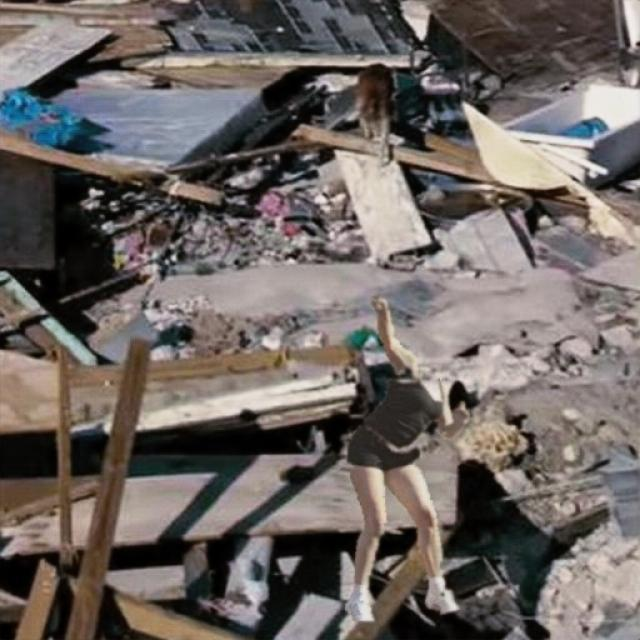Person in Rubble: (345, 296, 471, 620)
